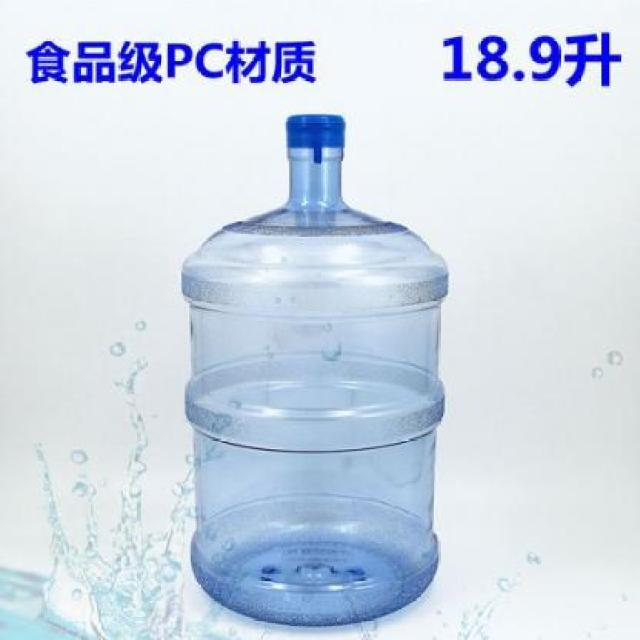coolerbottle: (174, 108, 457, 630)
